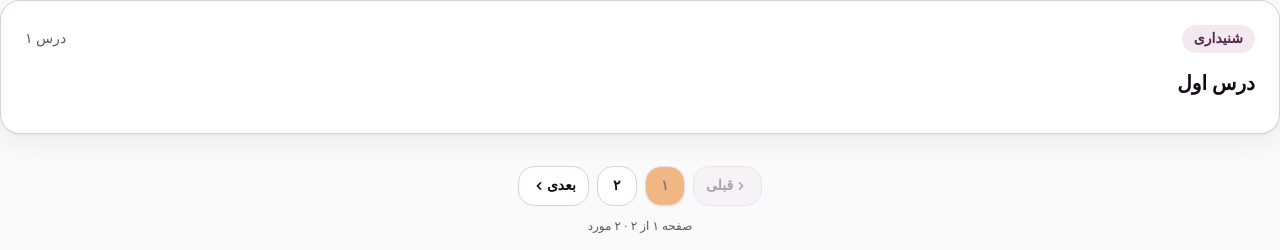
CourseLessonList › loads later pages through the store
The image size is (1280, 250).
Click the button named "صفحه ۲" at (617, 186), box [597,166,637,206]
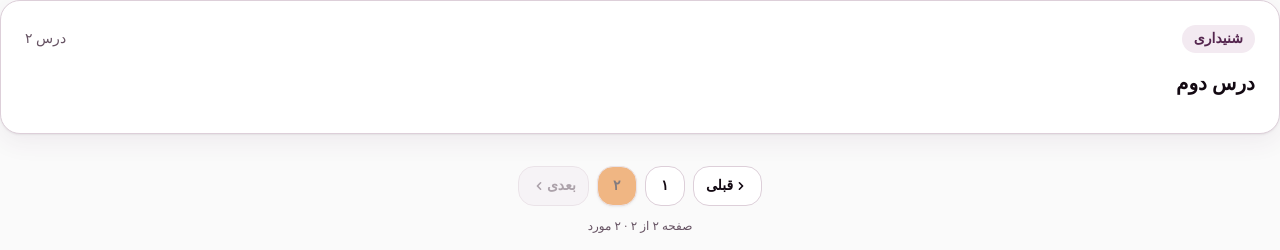
expect the heading "درس دوم" is shown: met, box [1176,72,1255,94]
